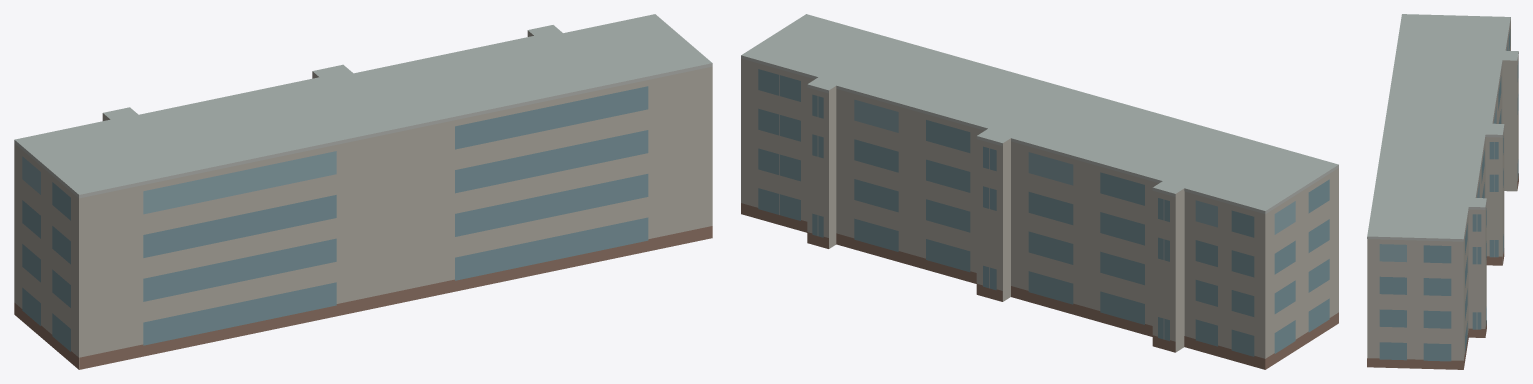
The model's file is survey-upis-32775103.glb.
3 renders of one model, left to right at view 1: azimuth 30°, elevation 25°; view 2: azimuth 150°, elevation 25°; view 3: azimuth 270°, elevation 25°, orthographic. The views are drawn at different scales.
Parts seen in each view (by area): view 1: survey-upis-32775103.tmp; view 2: survey-upis-32775103.tmp; view 3: survey-upis-32775103.tmp.
Boxes of the visible parts, <box> form: survey-upis-32775103.tmp: <box>14,14,712,369</box>; survey-upis-32775103.tmp: <box>741,14,1338,369</box>; survey-upis-32775103.tmp: <box>1367,14,1518,369</box>.
Bounding box in the file's own units: 45.06 × 12.2 × 12.84.
